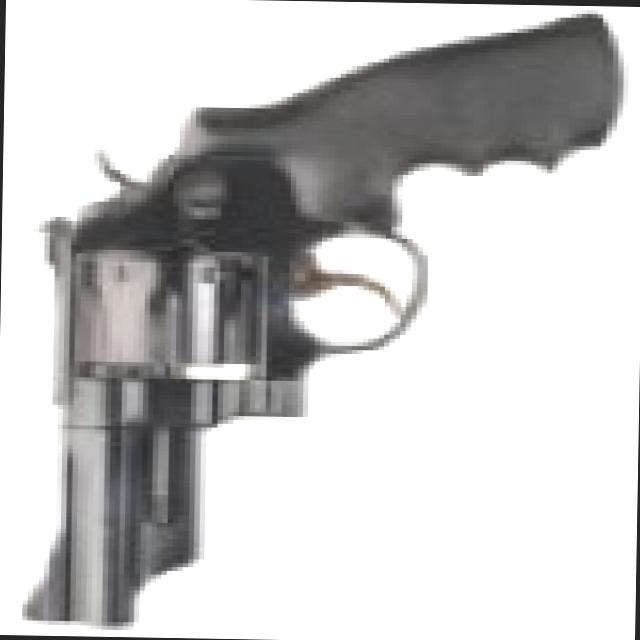handgun: (6, 11, 618, 637)
